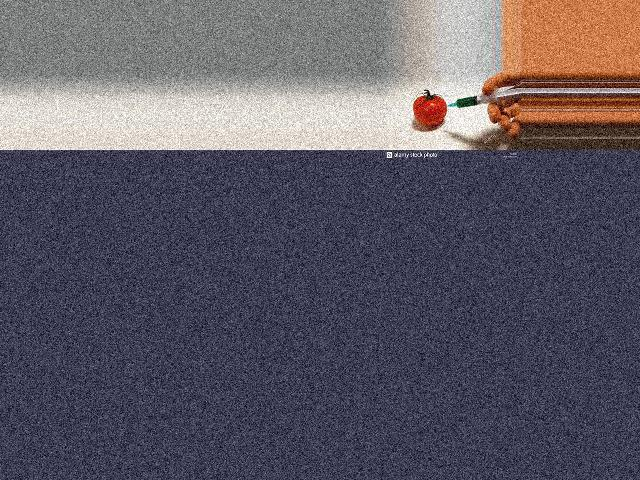tomato: (414, 96, 447, 126)
